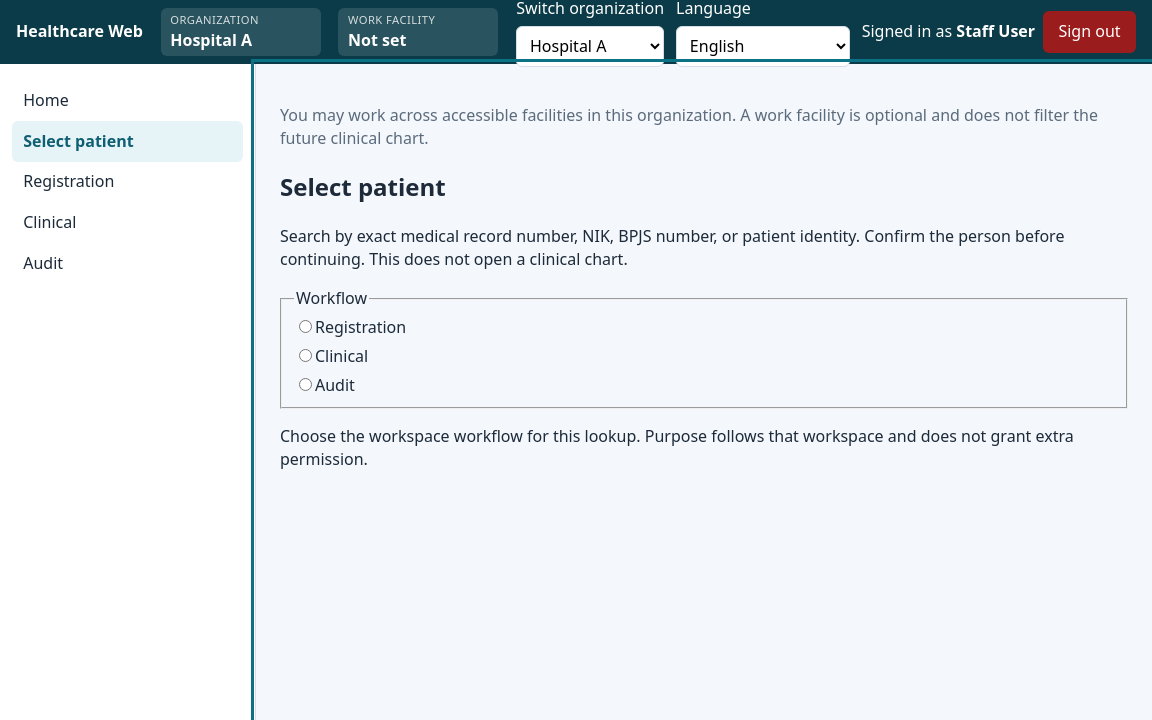
patient lookup and selection › does not render Hospital A PHI after switching to Hospital B
Click the radio button labelled "Clinical" at (306, 355), box [299,349,312,362]
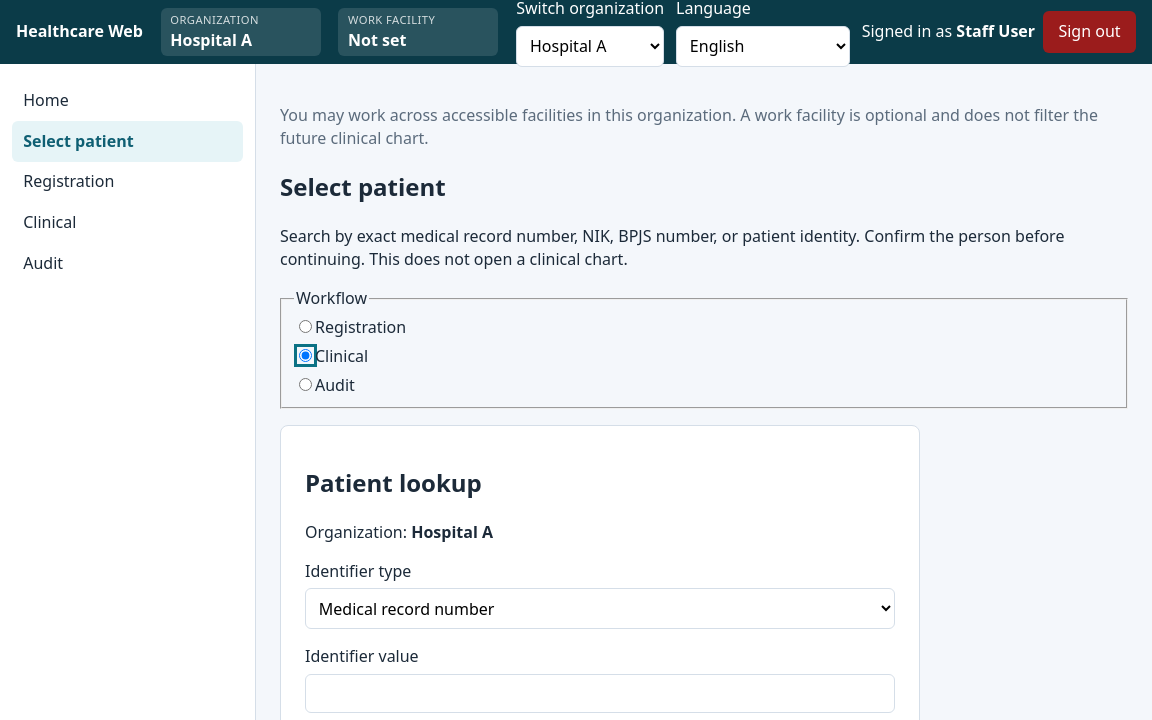
Type "MRN-TEST-0001" into the field labelled "Identifier value" at (600, 693), box [305,674,895,713]
(page scrolled)
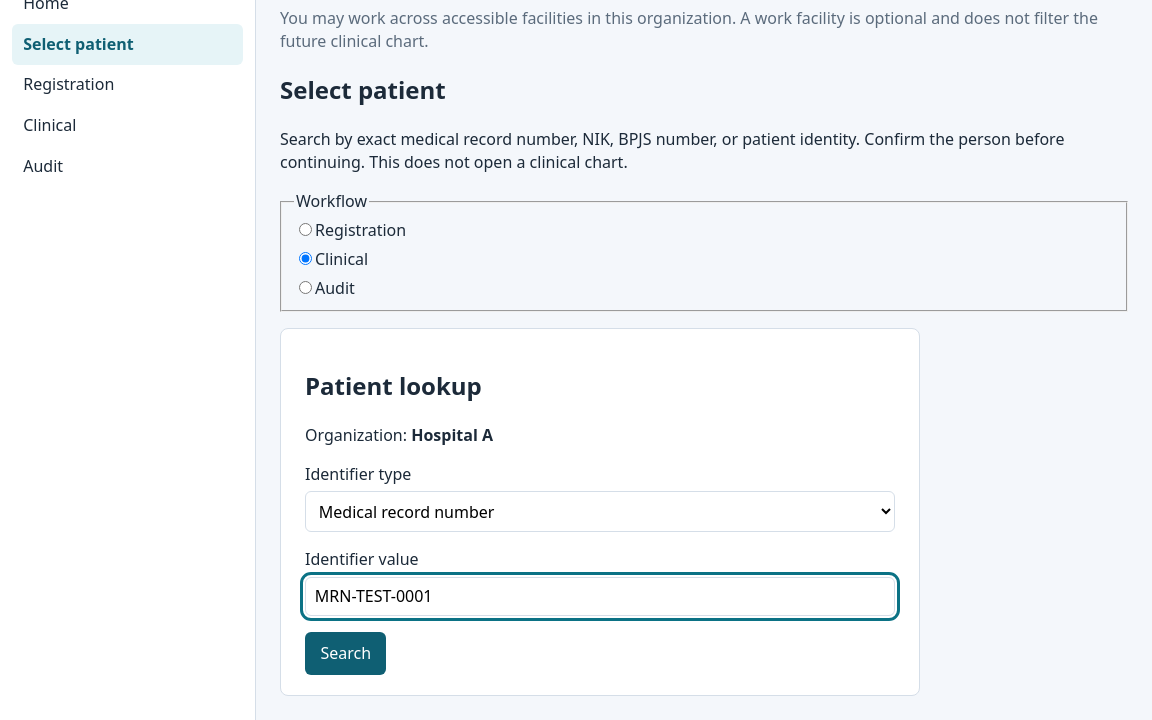
Click the button "Search" at (346, 654), box [305,632,386,675]
(page scrolled)
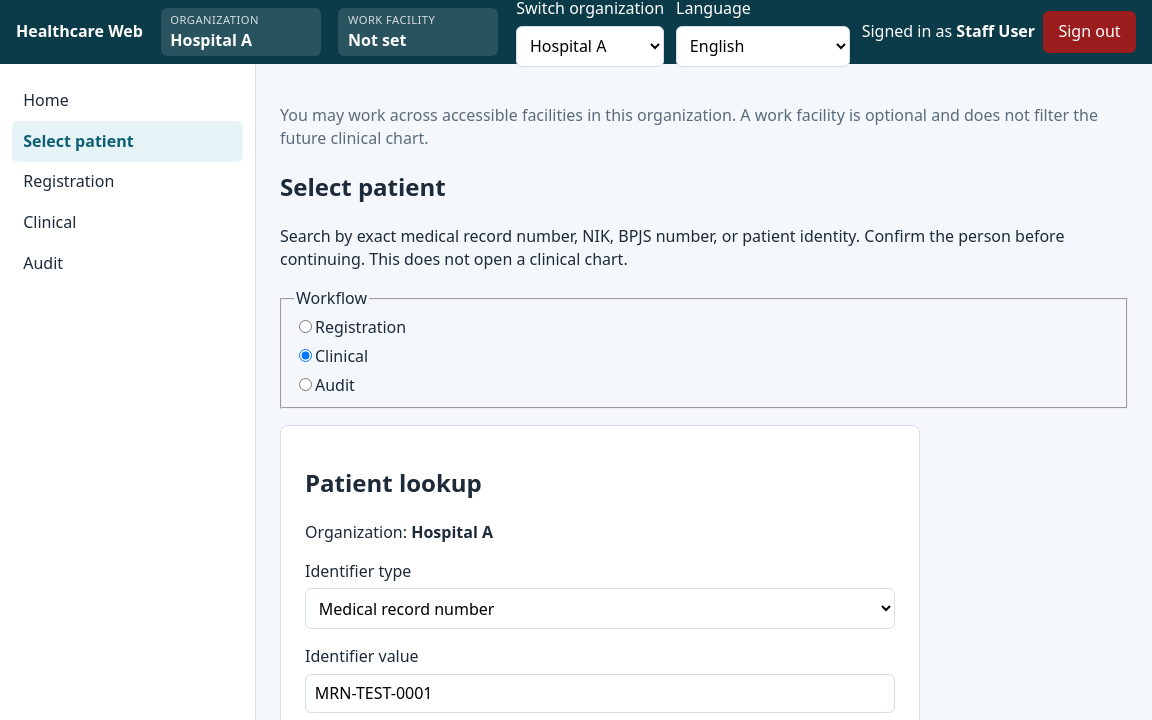
Select "Hospital B" in the dropdown labelled "Switch organization" at (590, 46), box [516,26,664,67]
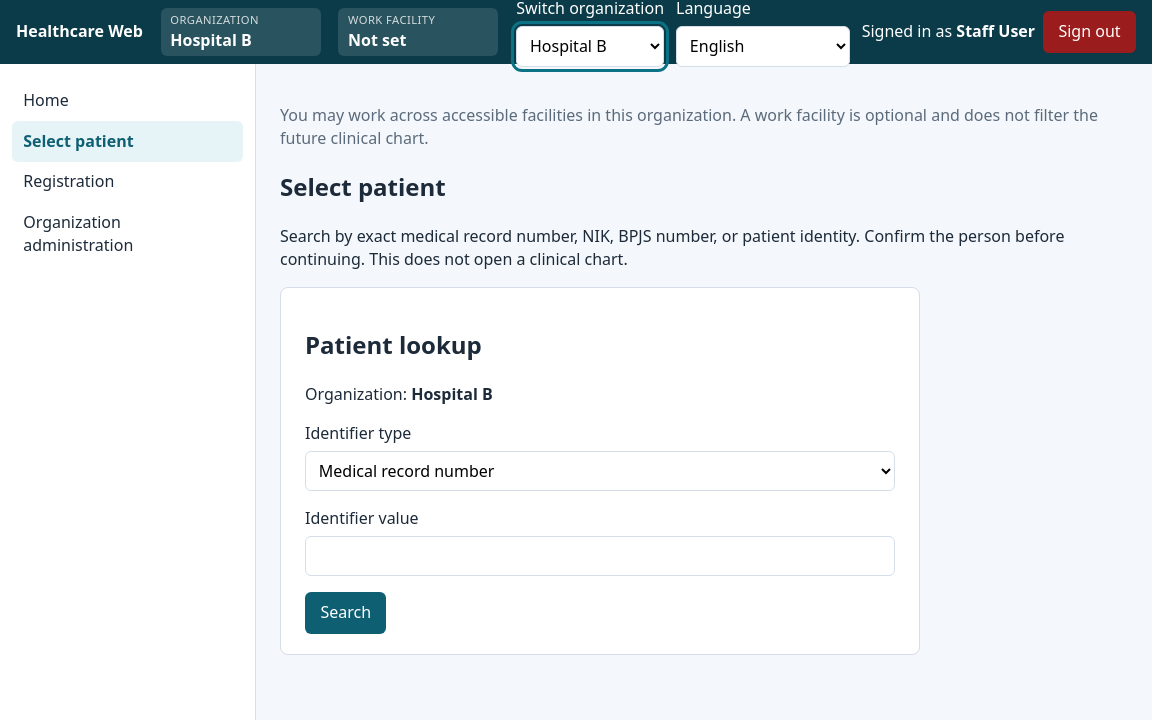
Now the element with test id "active-organization" shows "Hospital B", box [170,28,252,50]
